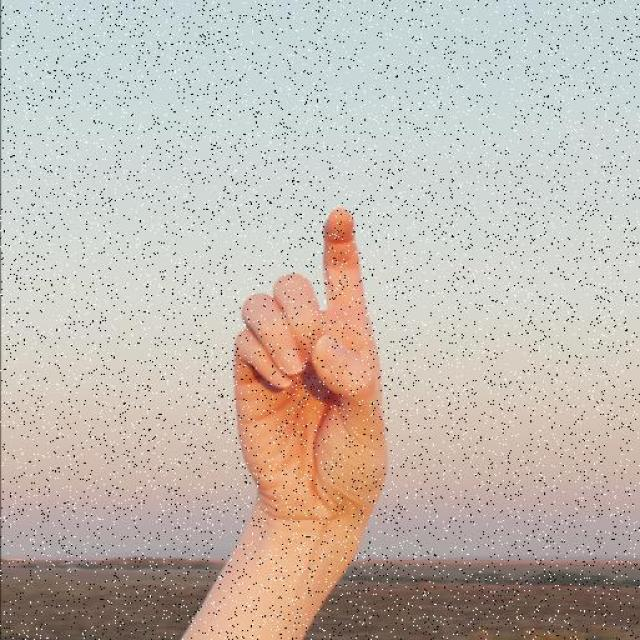X: (228, 203, 397, 534)
